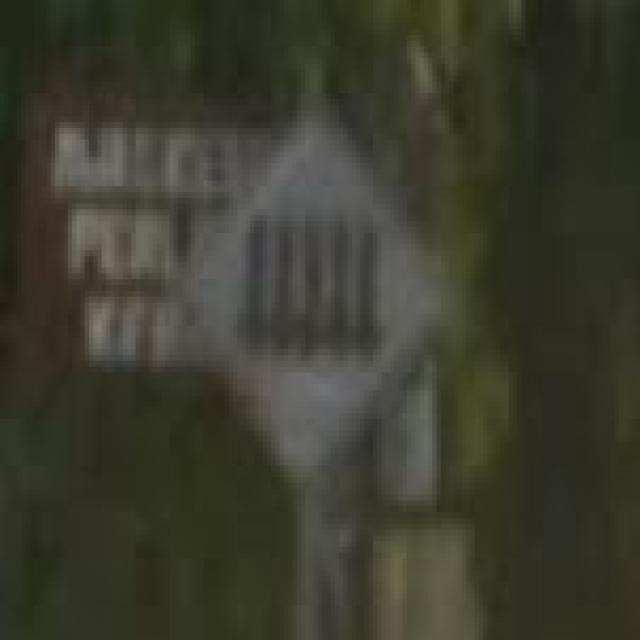traffic sign: (225, 128, 437, 477)
